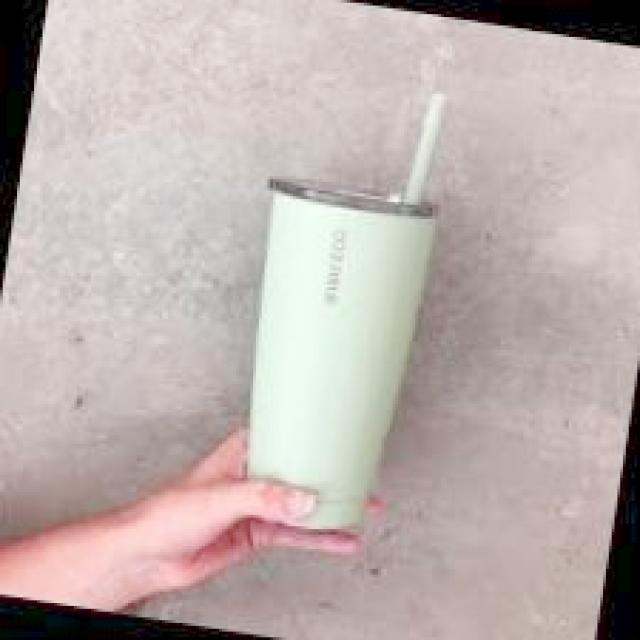bottle: (203, 71, 468, 555)
